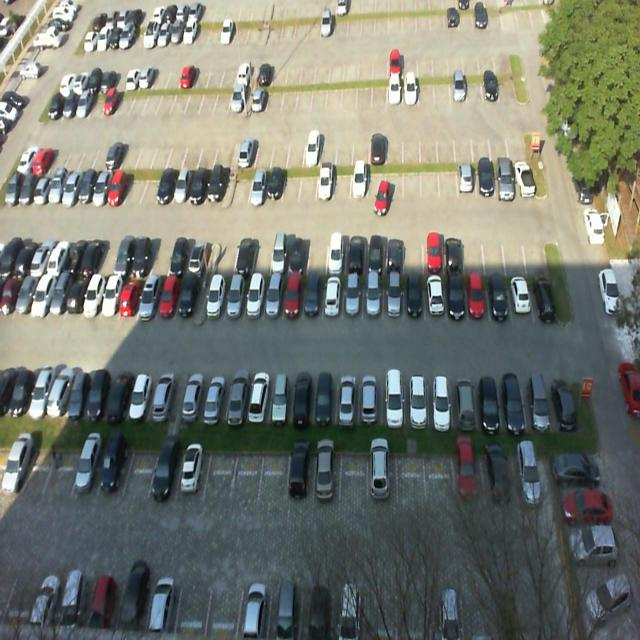empty: (123, 442, 157, 501), (43, 444, 79, 498), (230, 451, 264, 504), (204, 448, 238, 499), (259, 448, 291, 500), (21, 446, 55, 494), (483, 227, 507, 274), (525, 229, 549, 272), (505, 227, 527, 273), (148, 236, 172, 278), (139, 164, 162, 204), (404, 226, 424, 272), (230, 163, 252, 204), (464, 228, 484, 273), (213, 239, 235, 276), (251, 235, 273, 272), (307, 234, 327, 273), (282, 163, 300, 204), (299, 166, 317, 204), (368, 162, 386, 200), (332, 165, 350, 202), (403, 163, 421, 197), (422, 163, 440, 197), (440, 162, 458, 194), (388, 162, 403, 200)
occupied: (94, 444, 132, 502), (70, 446, 106, 500), (148, 444, 182, 499), (544, 370, 576, 426), (175, 445, 209, 496), (223, 370, 254, 424), (312, 451, 342, 506), (499, 373, 527, 431), (64, 367, 92, 421), (523, 370, 549, 428), (117, 271, 145, 323), (476, 372, 502, 428), (82, 370, 111, 420), (288, 449, 314, 504), (136, 267, 162, 321), (428, 375, 454, 429), (106, 371, 134, 421), (222, 272, 248, 325), (452, 374, 478, 427), (268, 373, 294, 425), (153, 274, 180, 324), (312, 372, 336, 428), (127, 370, 153, 420), (202, 370, 228, 420), (246, 372, 272, 422), (262, 270, 286, 324), (148, 374, 175, 422), (359, 370, 382, 426), (405, 374, 429, 427), (174, 272, 198, 324), (530, 270, 556, 318), (101, 270, 125, 321), (240, 274, 264, 324), (334, 372, 358, 422), (290, 372, 313, 424), (486, 273, 511, 320), (181, 373, 206, 419), (382, 371, 404, 423), (442, 226, 466, 273), (205, 273, 225, 327), (130, 236, 156, 276), (113, 238, 140, 276), (303, 276, 324, 324), (467, 274, 488, 322), (167, 238, 193, 276), (509, 276, 531, 320), (444, 277, 467, 319), (188, 238, 212, 278), (424, 228, 444, 276), (282, 276, 302, 324), (155, 165, 177, 207), (172, 165, 194, 207), (188, 164, 210, 206), (511, 156, 534, 196), (322, 277, 342, 323), (363, 276, 383, 322), (404, 274, 424, 320), (426, 276, 446, 322), (382, 231, 404, 272), (204, 166, 226, 206), (287, 234, 309, 274), (344, 231, 364, 275), (229, 238, 251, 276), (384, 276, 402, 322), (268, 236, 290, 273), (345, 275, 362, 321), (324, 235, 344, 273), (364, 235, 383, 273), (478, 158, 496, 198), (458, 162, 478, 197), (494, 160, 514, 195), (250, 166, 268, 203), (267, 166, 283, 207), (316, 166, 332, 201), (351, 164, 367, 198)
